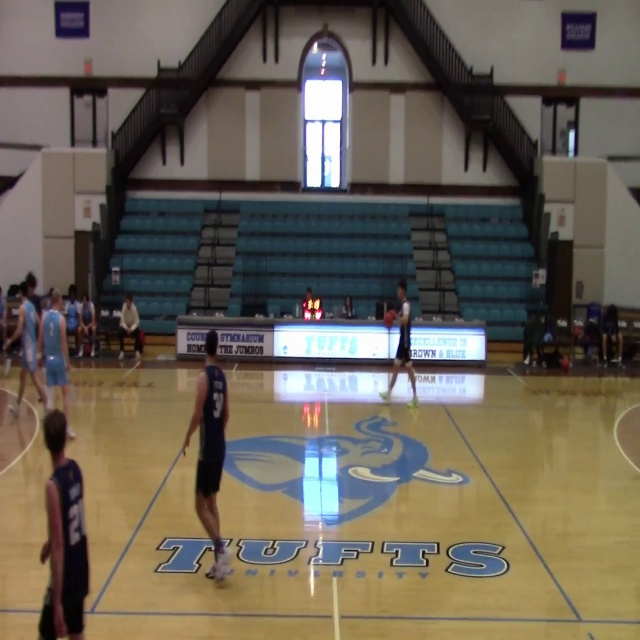Basketball: (383, 310, 395, 328)
